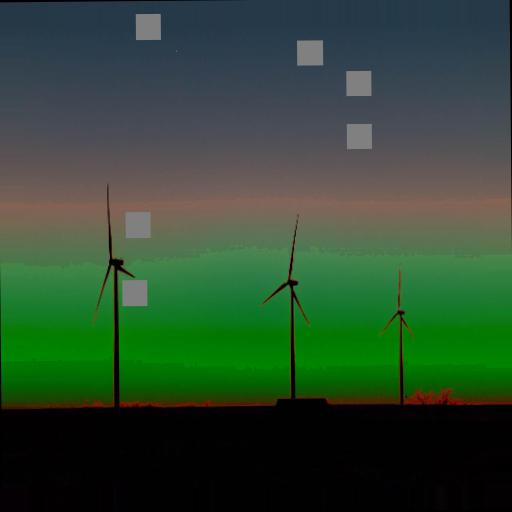wind turbine: (93, 182, 141, 402), (260, 214, 311, 394), (377, 268, 419, 397)
